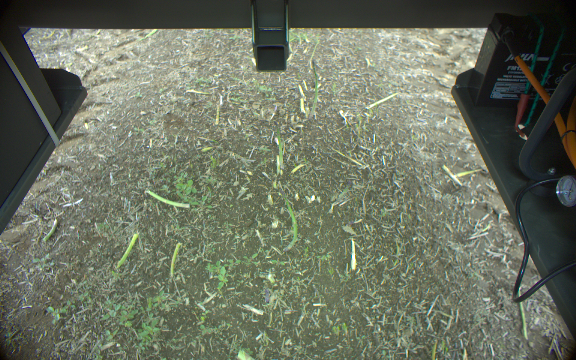aspa: (276, 188, 298, 251), (146, 189, 190, 208), (117, 233, 139, 266), (166, 241, 184, 280), (308, 59, 319, 122), (272, 122, 284, 176), (42, 218, 59, 245)
